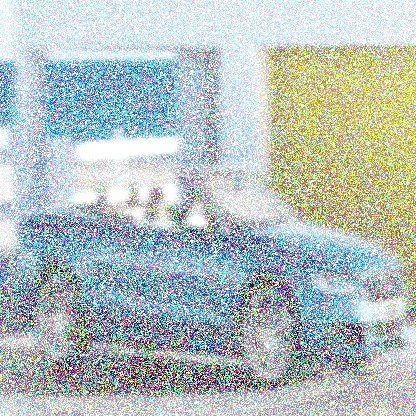Vehicle: (9, 158, 410, 388)
